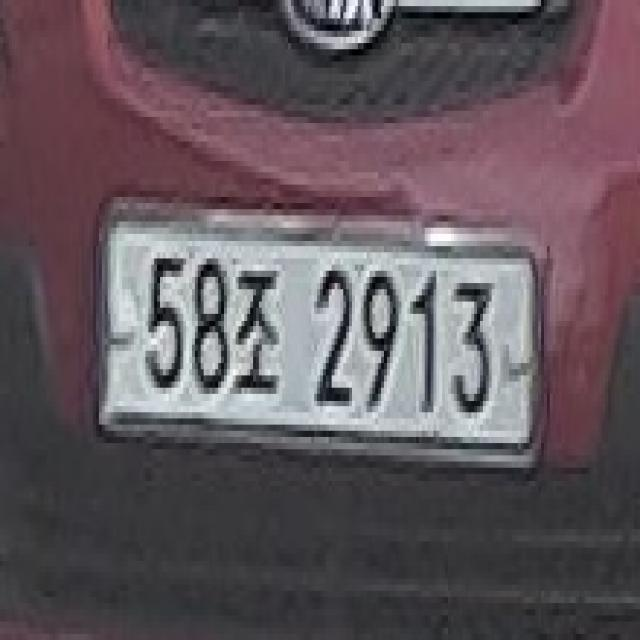1: (406, 263, 444, 419)
2: (308, 260, 356, 410)
3: (449, 263, 496, 417)
5: (142, 246, 186, 394)
8: (192, 246, 232, 397)
9: (360, 261, 402, 414)
jo: (234, 245, 284, 400)
license_plate: (100, 189, 554, 479)
